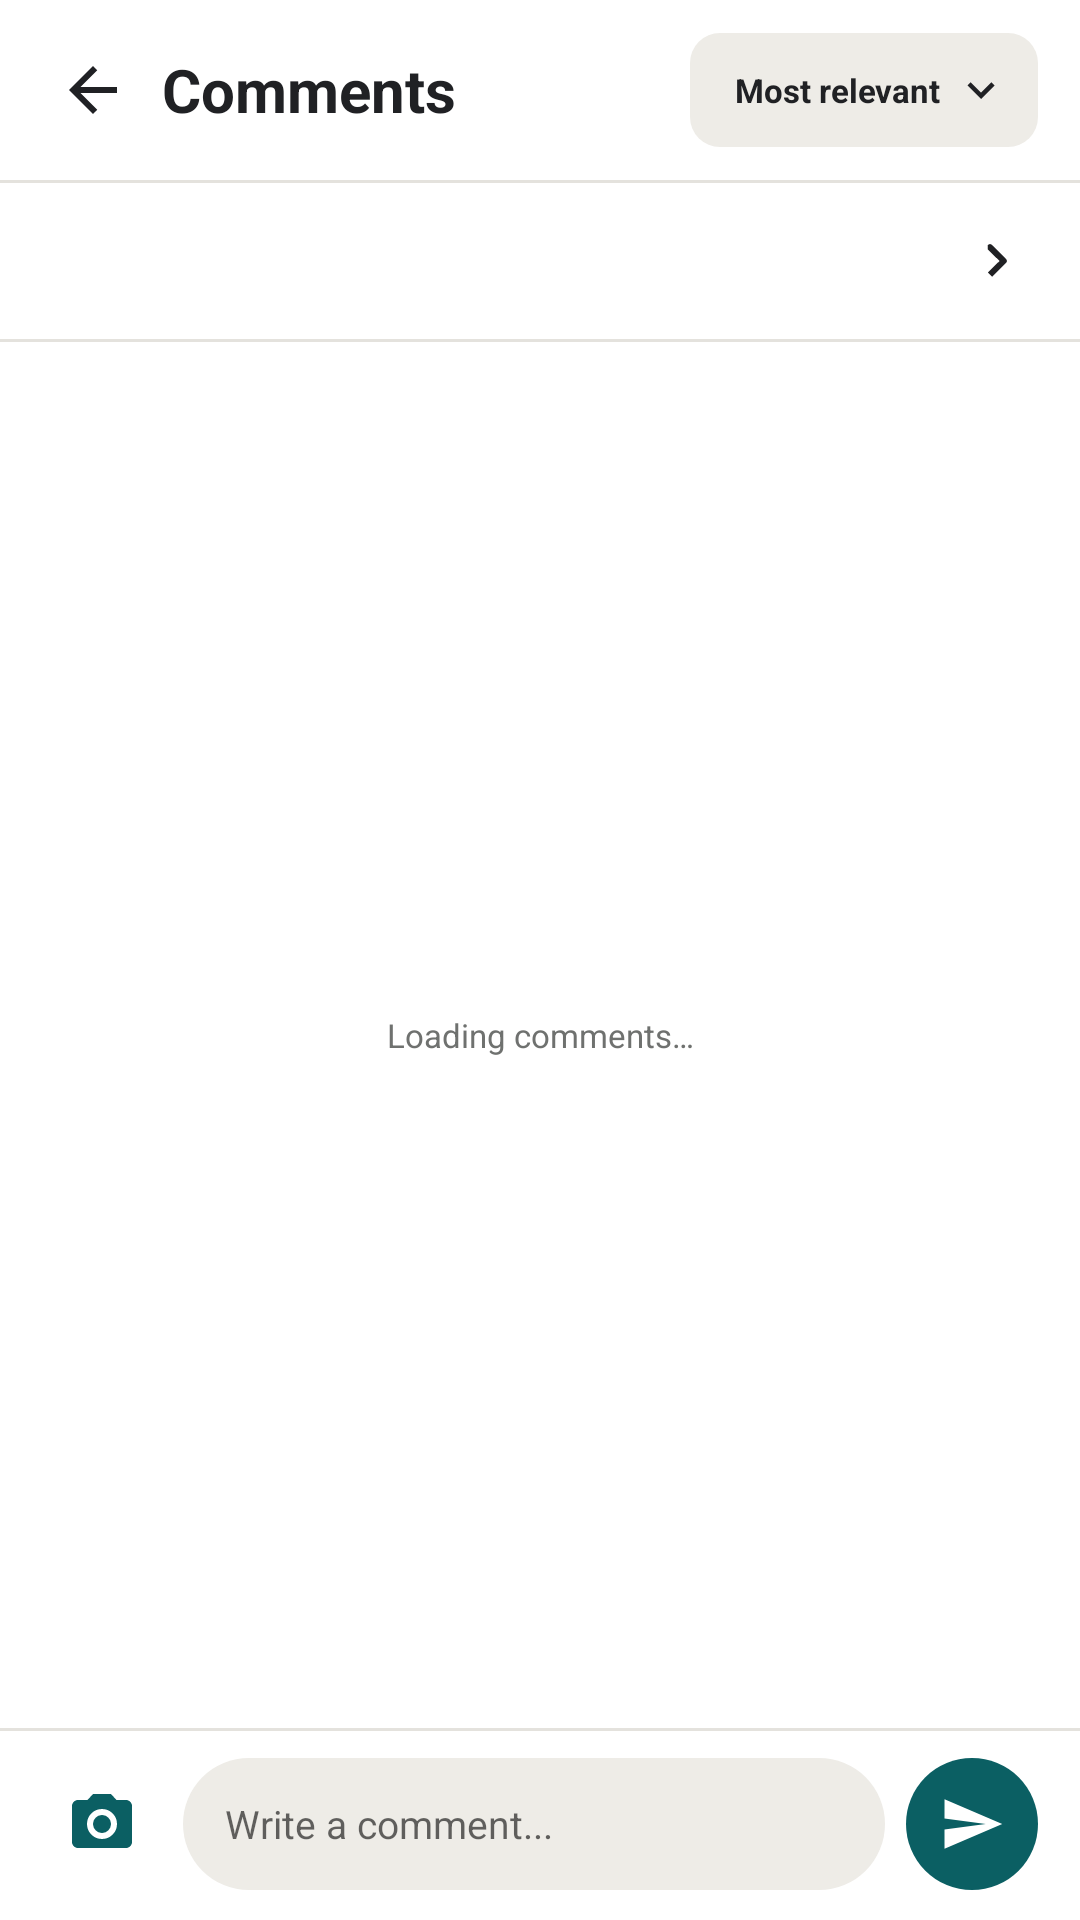

Screen size 1080px x 1920px. Icon name, then its center in pixels as (x=x, y=y):
Add a photo: (x=102, y=1821)
Back: (x=93, y=90)
chevron down: (x=981, y=90)
chevron right: (x=997, y=260)
Send: (x=972, y=1824)
